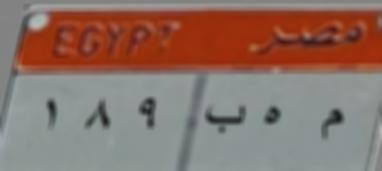1: (36, 92, 64, 136)
8: (78, 93, 112, 142)
9: (136, 94, 162, 136)
baa: (204, 100, 248, 141)
haa: (258, 101, 286, 134)
meem: (312, 100, 347, 144)
